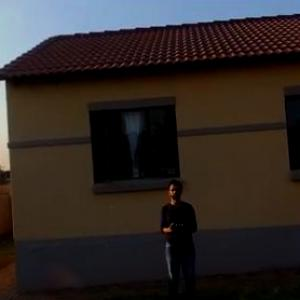follow: (156, 175, 204, 299)
